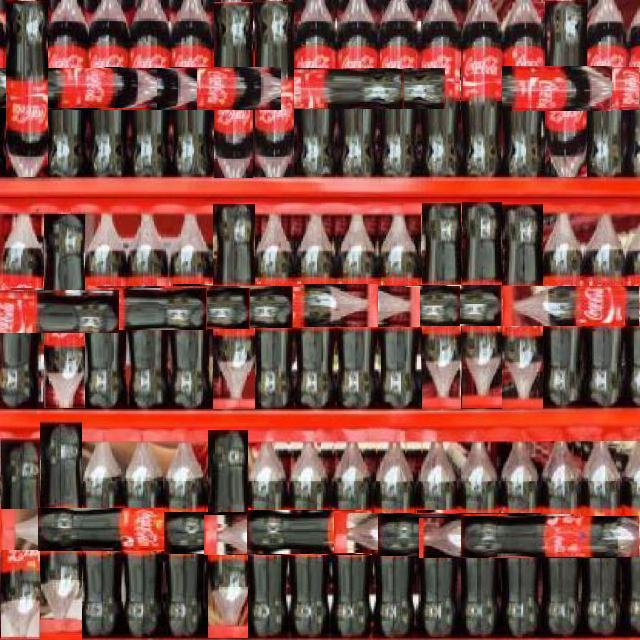Drinks: (39, 420, 82, 640), (373, 425, 417, 639), (247, 510, 457, 554), (165, 425, 208, 639), (38, 508, 251, 551), (163, 512, 374, 554), (172, 284, 378, 327), (212, 203, 255, 409), (204, 514, 415, 555), (6, 287, 207, 330), (0, 509, 210, 550), (207, 429, 248, 638), (88, 286, 292, 328), (377, 514, 580, 556), (461, 201, 502, 408), (295, 285, 502, 326), (334, 512, 541, 553), (502, 203, 543, 409), (255, 285, 460, 326), (544, 203, 585, 407), (47, 288, 250, 329), (582, 433, 623, 636), (421, 202, 461, 409), (419, 517, 620, 558), (214, 287, 420, 327), (0, 438, 40, 639), (434, 66, 612, 111), (44, 213, 85, 408), (544, 0, 587, 177), (5, 0, 48, 177), (104, 68, 281, 110), (20, 68, 197, 110), (461, 516, 640, 557), (461, 0, 502, 177), (419, 0, 460, 177), (378, 1, 419, 178), (268, 68, 445, 109), (227, 68, 404, 109), (129, 0, 170, 177), (254, 0, 294, 177), (213, 1, 253, 178), (0, 68, 157, 108), (504, 285, 640, 326), (518, 68, 640, 110), (0, 290, 119, 333)
